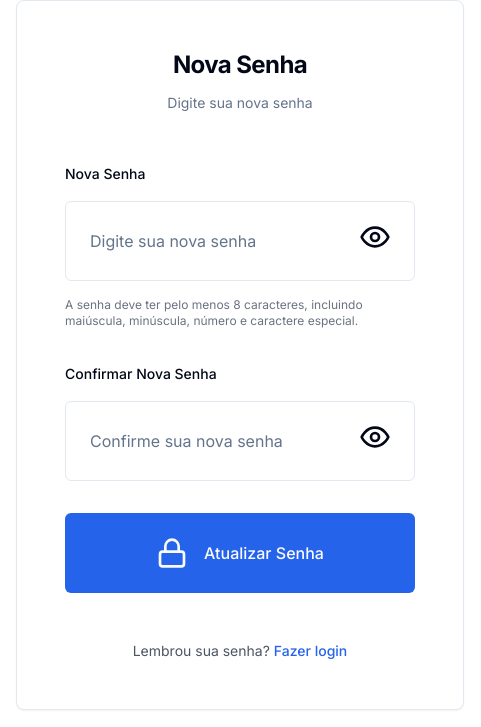
UpdatePasswordForm › Password Update Success › shows success message after password update
Type "NewPassword123!" into the password field with placeholder "Digite sua nova senha". click: (240, 241)
box: [65, 201, 415, 281]
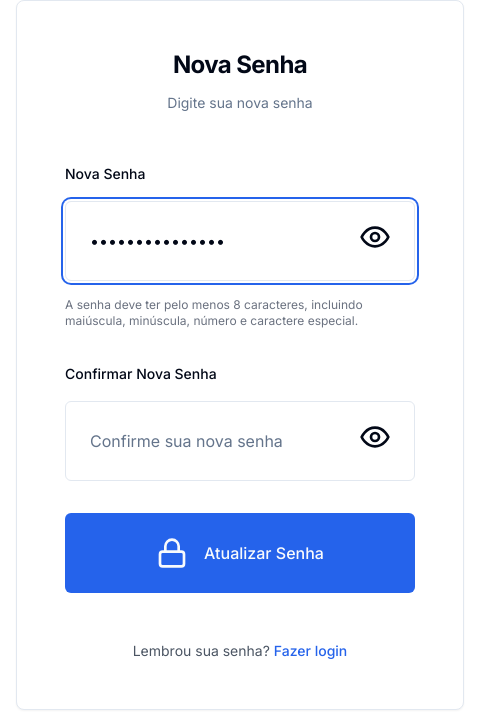
Type "NewPassword123!" into the password field with placeholder "Confirme sua nova senha". click: (240, 441)
box: [65, 401, 415, 481]
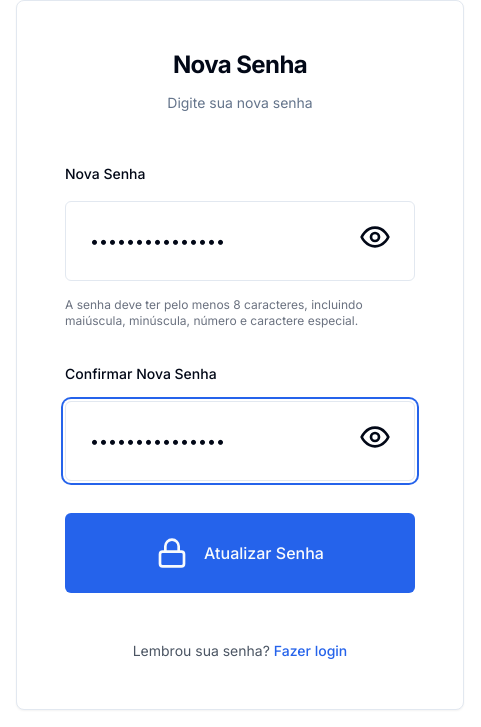
Click the button "Atualizar Senha". click: (240, 553)
box: [65, 513, 415, 593]
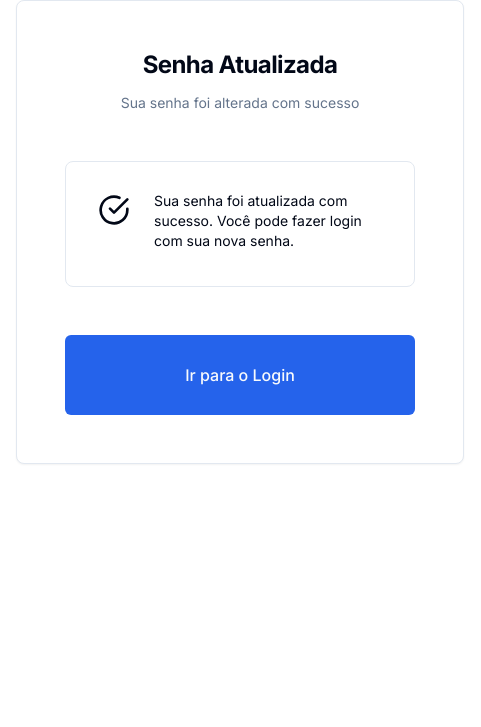
Check: the text "Sua senha foi atualizada com sucesso" is shown, box [154, 192, 362, 249]
